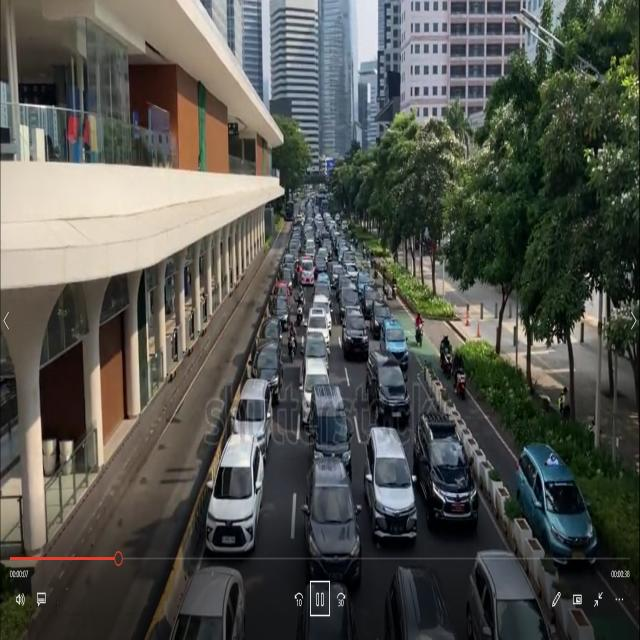Ambulance: (297, 248, 316, 295)
